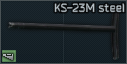KS-23M wire stock: (0, 0, 127, 64)
